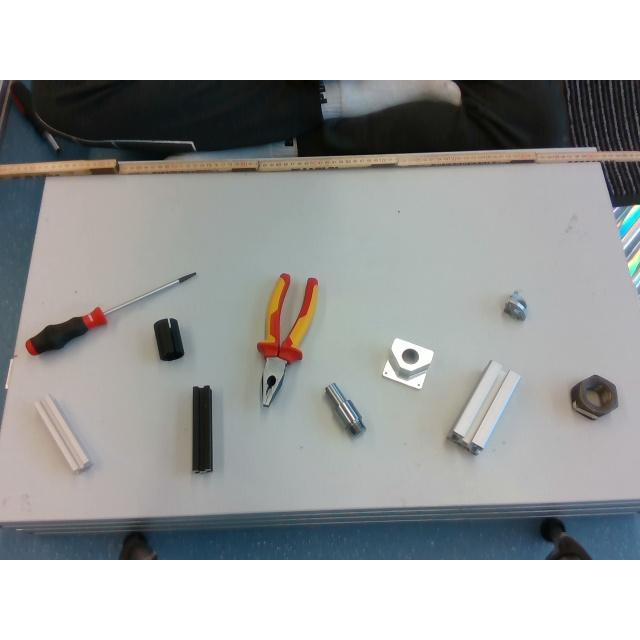Axis2: (324, 382, 368, 442)
F20_20_B: (192, 386, 212, 472)
F20_20_G: (33, 392, 93, 476)
M30: (570, 375, 618, 419)
S40_40_G: (446, 358, 522, 456)
